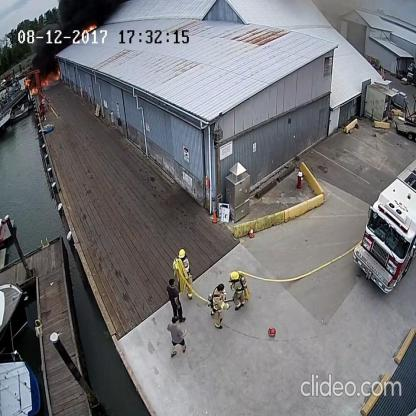fire: (40, 65, 61, 86), (25, 77, 39, 95), (84, 20, 99, 32)
